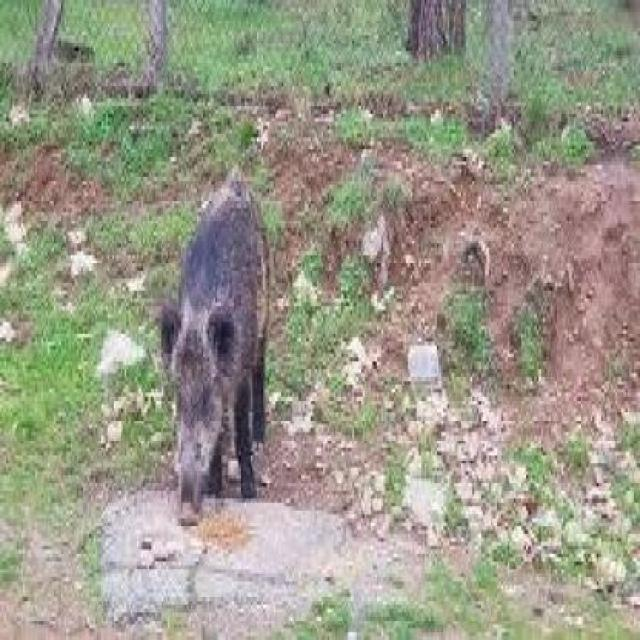wildboar: (153, 166, 278, 542)
